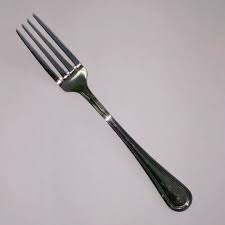fork: (13, 9, 196, 215)
